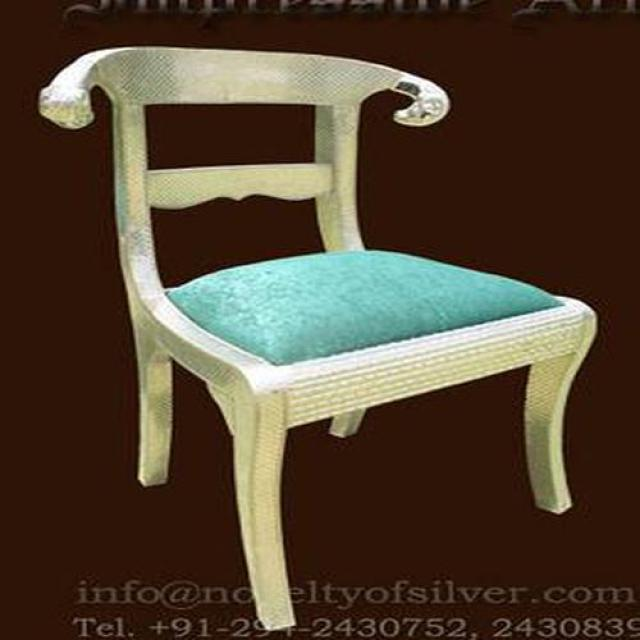chair: (37, 47, 598, 634)
